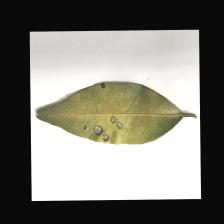canker: (62, 88, 145, 173)
